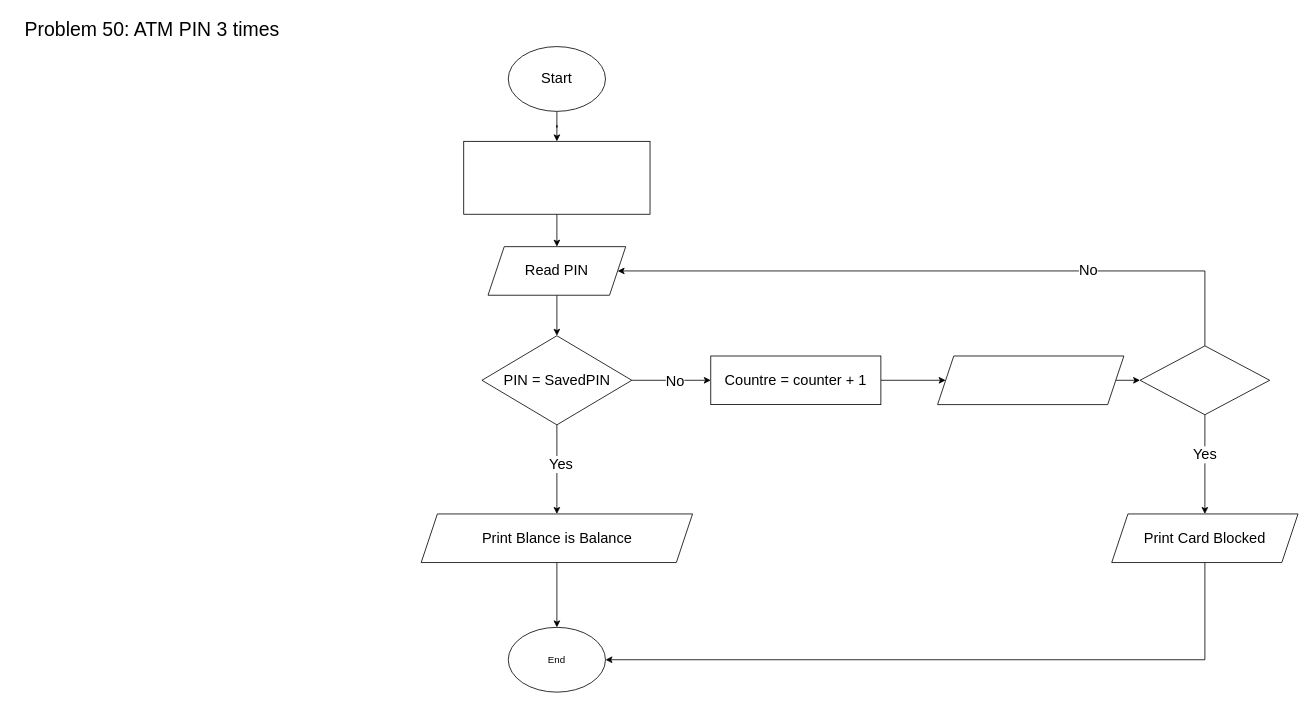
Some shapes in this 1312 by 706 pixel diagram are drawn without their labels. The shapes that lost their labels are listed below. From the top down, each one's centre as x and y in pixels, then its label:
At [556,177]: "SavedPIN = 1234 Balance = 7500 Counter = 0".
At [1030,380]: "Print Wrong PIN".
At [1204,380]: "Counter = 3".
